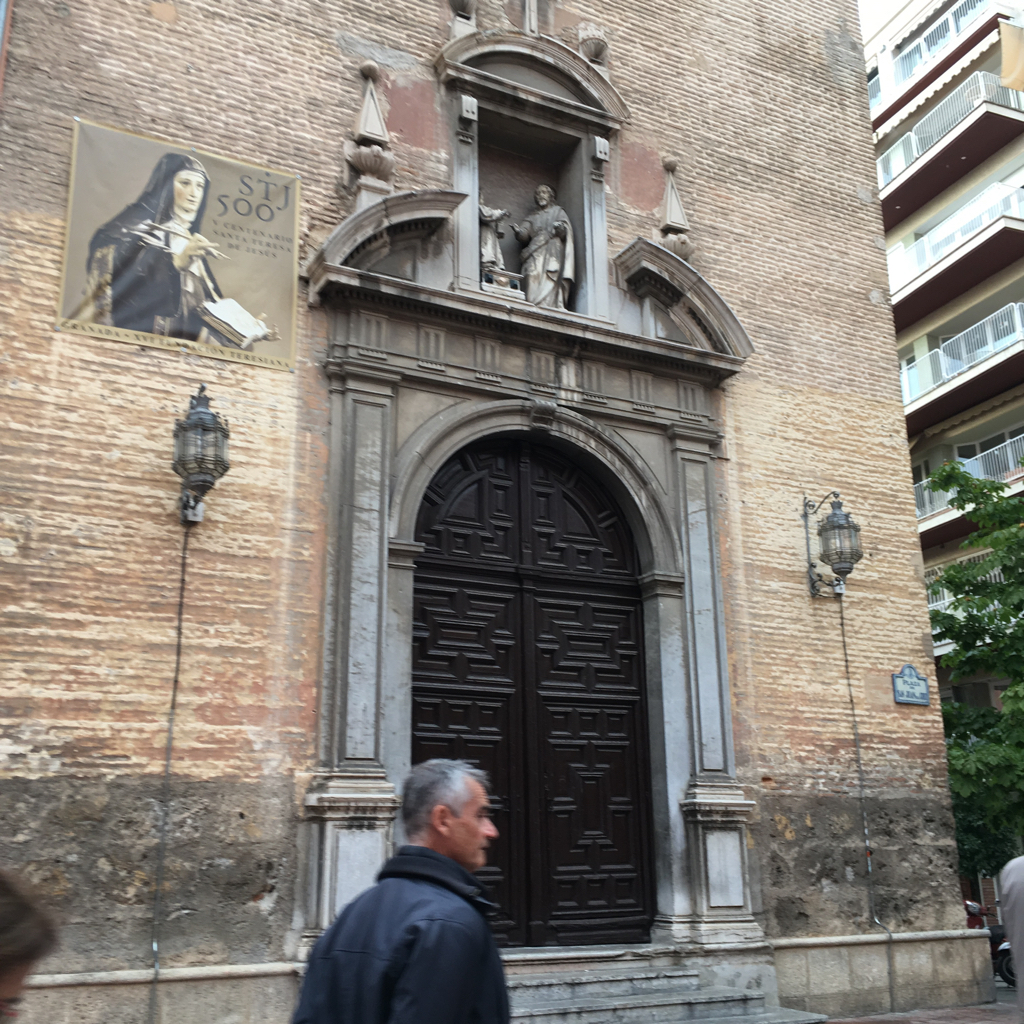arco-medio-punto: (404, 411, 673, 614)
fronton-curvo: (436, 26, 633, 134)
fronton-partido: (312, 186, 757, 366)
vano-adintelado: (461, 102, 596, 313)
